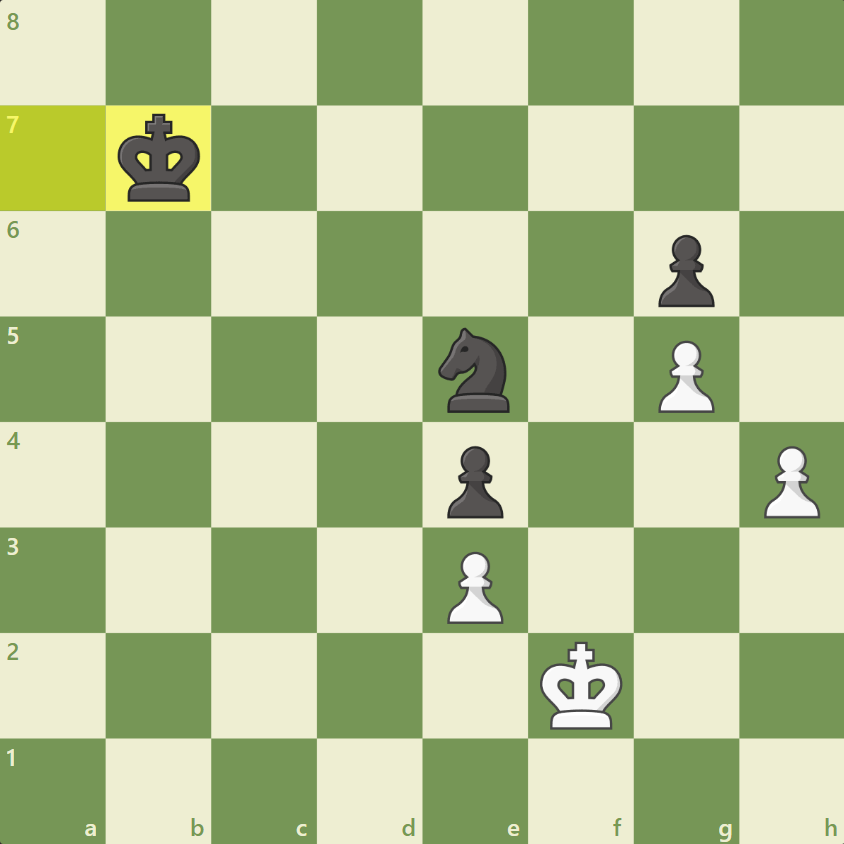K: (537, 640, 625, 733)
P: (444, 550, 510, 627), (759, 443, 823, 521), (655, 338, 718, 416)
k: (115, 111, 204, 206)
n: (436, 326, 515, 417)
p: (654, 233, 719, 312), (443, 444, 507, 523)
